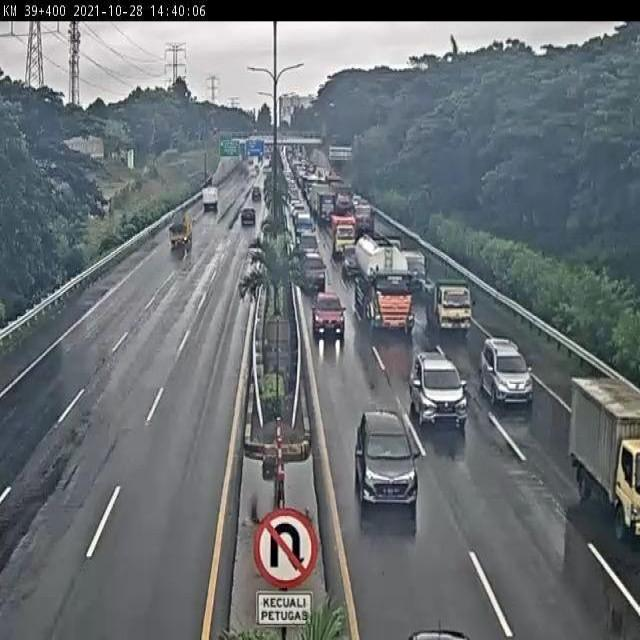car: (356, 411, 417, 504), (410, 355, 465, 425), (481, 339, 533, 404), (311, 295, 346, 337), (301, 252, 327, 291), (298, 228, 319, 255), (340, 244, 357, 277), (238, 205, 256, 228)
small truck: (165, 210, 194, 250)
truck-m-: (423, 271, 473, 332), (331, 216, 355, 255)
truck-s-: (570, 376, 640, 539), (401, 248, 428, 296)
truck-xl-: (355, 234, 414, 334)
